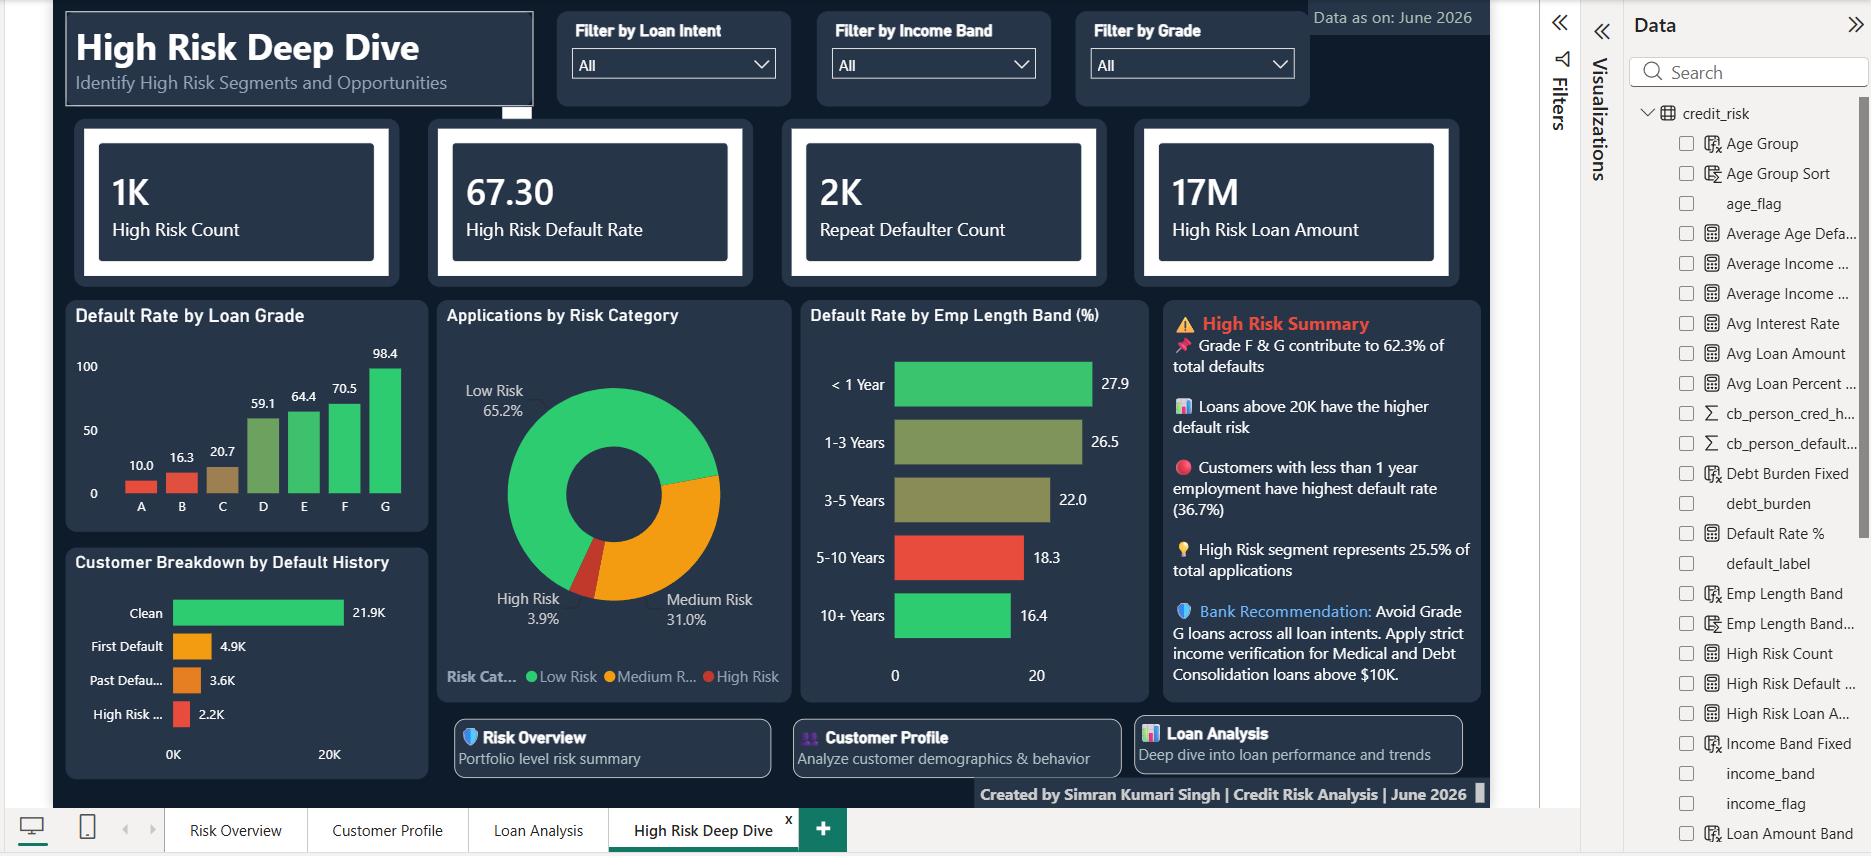

Layout of this report page (visuals, bound fields, positions):
{"tool":"powerbi","page":{"name":"High Risk Deep Dive","canvas":[1280,720],"ordinal":3},"visuals":[{"type":"textbox","box":[10.9,9.7,416.2,84.5],"z":0},{"type":"slicer","fields":{"Values":["credit_risk.loan_intent"]},"box":[448.8,9.7,208.7,84.5],"z":1000},{"type":"slicer","fields":{"Values":["credit_risk.Income Band Fixed"]},"box":[680.4,9.7,208.7,84.5],"z":2000},{"type":"slicer","fields":{"Values":["credit_risk.loan_grade"]},"box":[910.9,9.7,208.7,84.5],"z":3000},{"type":"cardVisual","fields":{"Data":["credit_risk.High Risk Count"]},"box":[19.3,106.2,289.5,149.6],"z":4000},{"type":"cardVisual","fields":{"Data":["credit_risk.High Risk Default Rate"]},"box":[334.2,106.2,289.5,149.6],"z":5000},{"type":"cardVisual","fields":{"Data":["credit_risk.Repeat Defaulter Count"]},"box":[649.1,106.2,289.5,149.6],"z":6000},{"type":"clusteredColumnChart","title":"Default Rate by Loan Grade","fields":{"Category":["credit_risk.loan_grade"],"Y":["credit_risk.Default Rate %"]},"box":[10.9,266.6,323.3,206.3],"z":7000},{"type":"donutChart","title":"Applications by Risk Category","fields":{"Category":["credit_risk.risk_category"],"Y":["credit_risk.Total Applications"]},"box":[341.4,266.6,316.1,358.3],"z":8000},{"type":"clusteredBarChart","title":"Default Rate by Emp Length Band (%)","fields":{"Category":["credit_risk.Emp Length Band"],"Y":["credit_risk.Default Rate %"]},"box":[666,266.6,310.1,358.3],"z":9000},{"type":"clusteredBarChart","title":"Customer Breakdown by Default History","fields":{"Category":["credit_risk.repeat_defaulter"],"Y":["credit_risk.Total Applications"]},"box":[10.9,487.4,323.3,206.3],"z":10000},{"type":"textbox","box":[988.1,266.6,283.5,358.3],"z":11000},{"type":"actionButton","title":"🛡️Risk Overview","box":[357.1,640.6,282.3,53.1],"z":12000},{"type":"actionButton","title":"👥 Customer Profile","box":[658.7,640.6,293.2,53.1],"z":13000},{"type":"actionButton","title":"📊 Loan Analysis","box":[962.7,637,293.2,53.1],"z":14000},{"type":"cardVisual","fields":{"Data":["credit_risk.High Risk Loan Amount"]},"box":[962.7,106.2,289.5,149.6],"z":15000},{"type":"textbox","box":[820.9,691.9,459.3,27.9],"z":16000},{"type":"textbox","box":[1117.2,0,162.9,31.4],"z":17000}]}

Visuals, with their boxes on the page's 1280x720 design canvas (x1, y1, x2, y2). These are canvas units, not pixel positions in the 1871x856 screenshot, which may show the page scaled, cropped or inside an application window:
textbox: [left=11, top=10, right=427, bottom=94]
slicer - credit_risk.loan_intent: [left=449, top=10, right=658, bottom=94]
slicer - credit_risk.Income Band Fixed: [left=680, top=10, right=889, bottom=94]
slicer - credit_risk.loan_grade: [left=911, top=10, right=1120, bottom=94]
cardVisual - credit_risk.High Risk Count: [left=19, top=106, right=309, bottom=256]
cardVisual - credit_risk.High Risk Default Rate: [left=334, top=106, right=624, bottom=256]
cardVisual - credit_risk.Repeat Defaulter Count: [left=649, top=106, right=939, bottom=256]
"Default Rate by Loan Grade" clusteredColumnChart: [left=11, top=267, right=334, bottom=473]
"Applications by Risk Category" donutChart: [left=341, top=267, right=658, bottom=625]
"Default Rate by Emp Length Band (%)" clusteredBarChart: [left=666, top=267, right=976, bottom=625]
"Customer Breakdown by Default History" clusteredBarChart: [left=11, top=487, right=334, bottom=694]
textbox: [left=988, top=267, right=1272, bottom=625]
"🛡️Risk Overview" actionButton: [left=357, top=641, right=639, bottom=694]
"👥 Customer Profile" actionButton: [left=659, top=641, right=952, bottom=694]
"📊 Loan Analysis" actionButton: [left=963, top=637, right=1256, bottom=690]
cardVisual - credit_risk.High Risk Loan Amount: [left=963, top=106, right=1252, bottom=256]
textbox: [left=821, top=692, right=1280, bottom=720]
textbox: [left=1117, top=0, right=1280, bottom=31]
